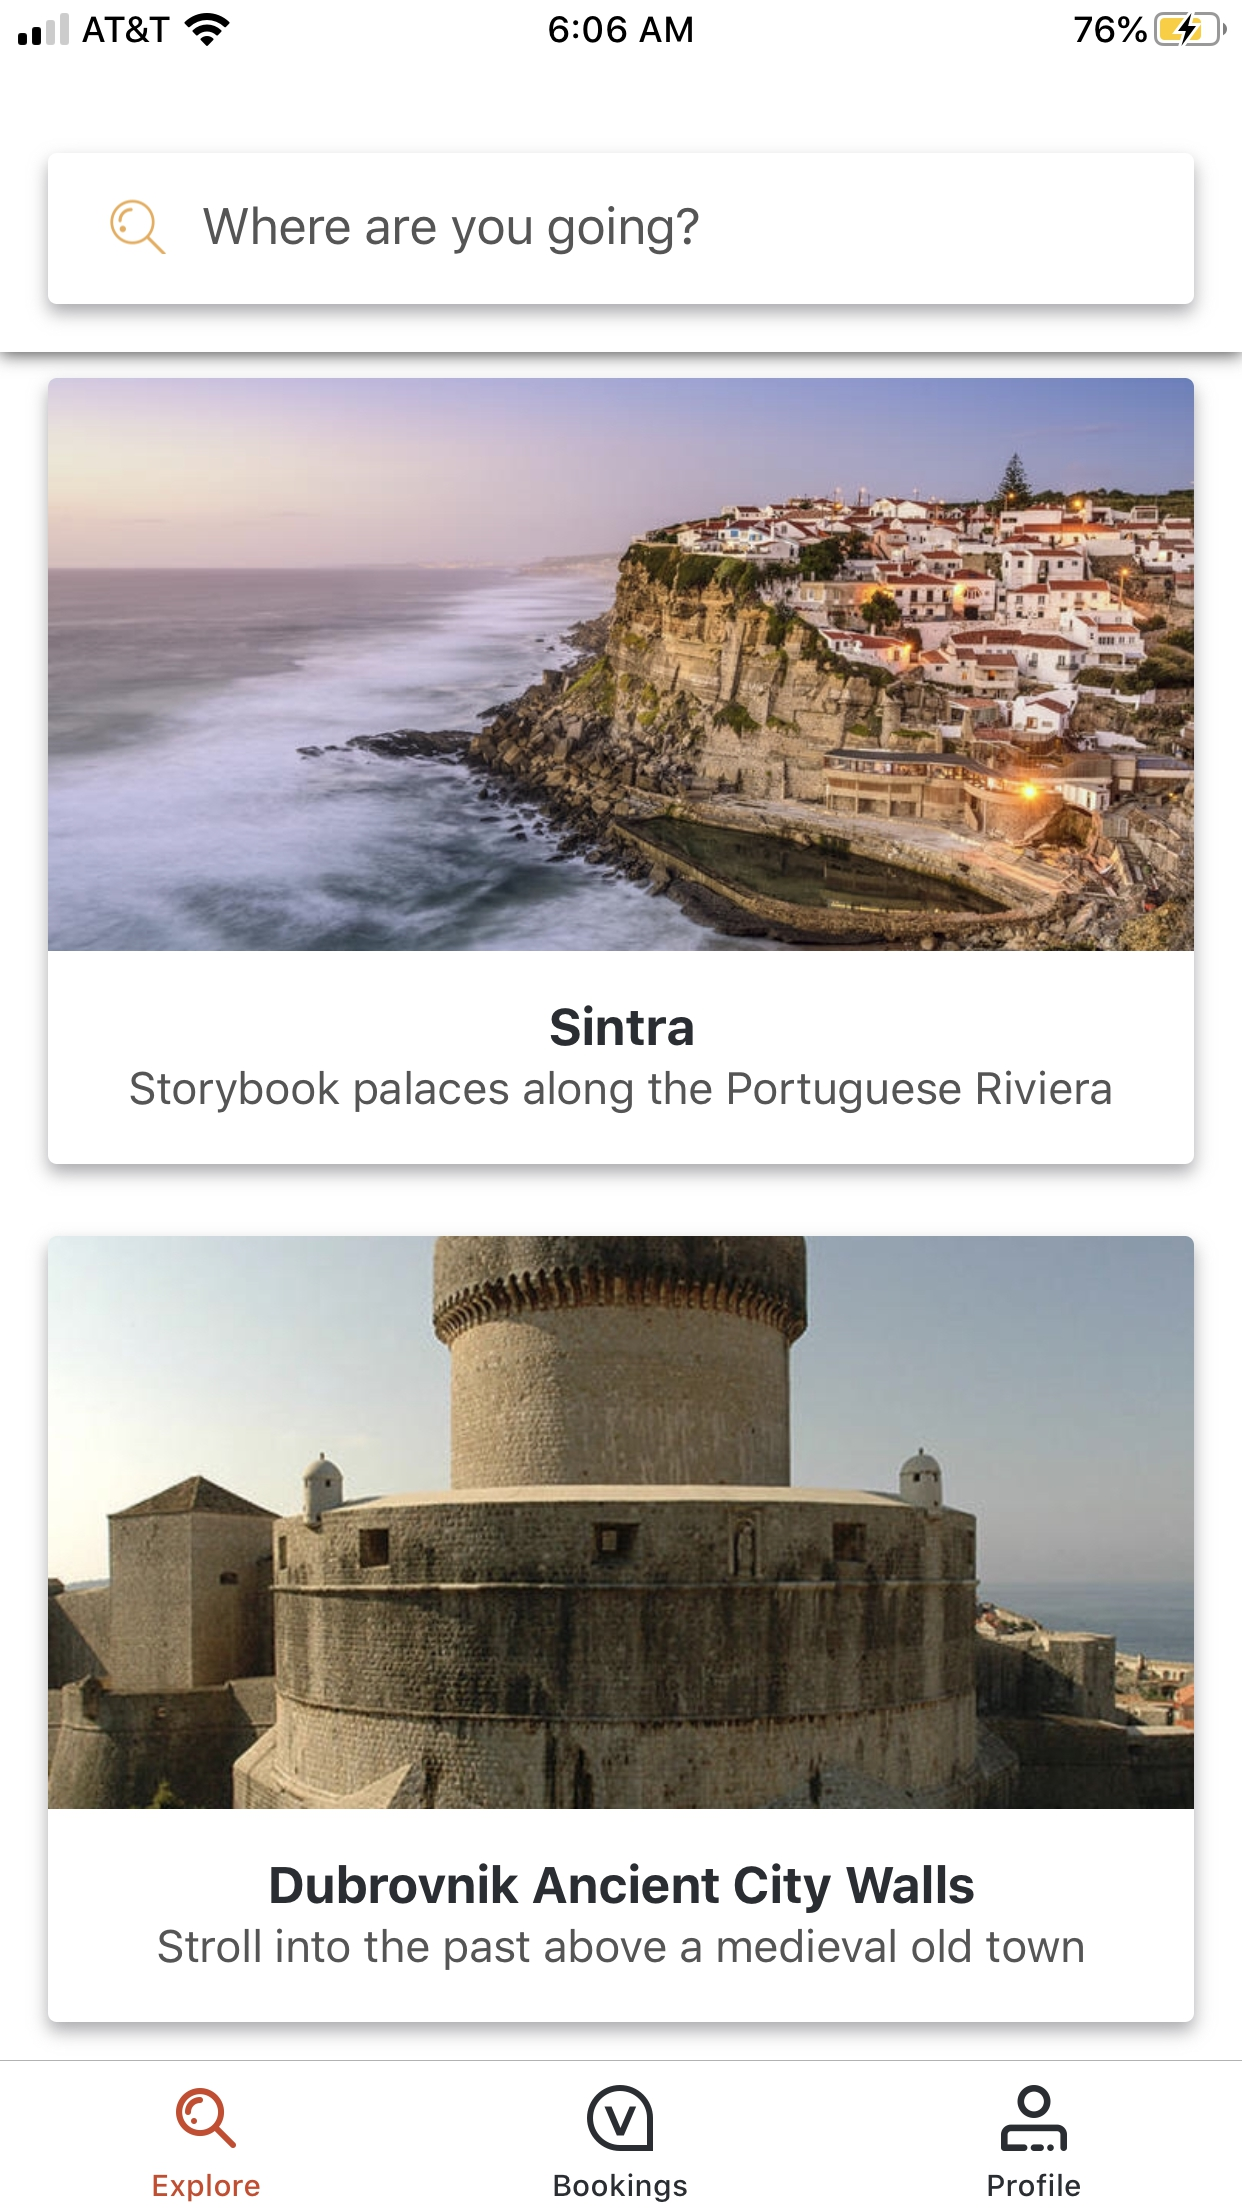EditText: (49, 153, 1193, 305)
Icon: (1001, 2084, 1068, 2150), (176, 2087, 237, 2147), (111, 200, 167, 255)
Image: (49, 378, 1193, 952), (49, 1236, 1193, 1809), (587, 2085, 654, 2152)
Text: (132, 1071, 1112, 1115), (159, 1927, 1084, 1970), (271, 1862, 974, 1914), (205, 206, 701, 256), (550, 1005, 695, 1046), (555, 2173, 688, 2202), (153, 2173, 261, 2202), (989, 2173, 1080, 2197)
UpperTaskBar: (2, 2, 1240, 49)
